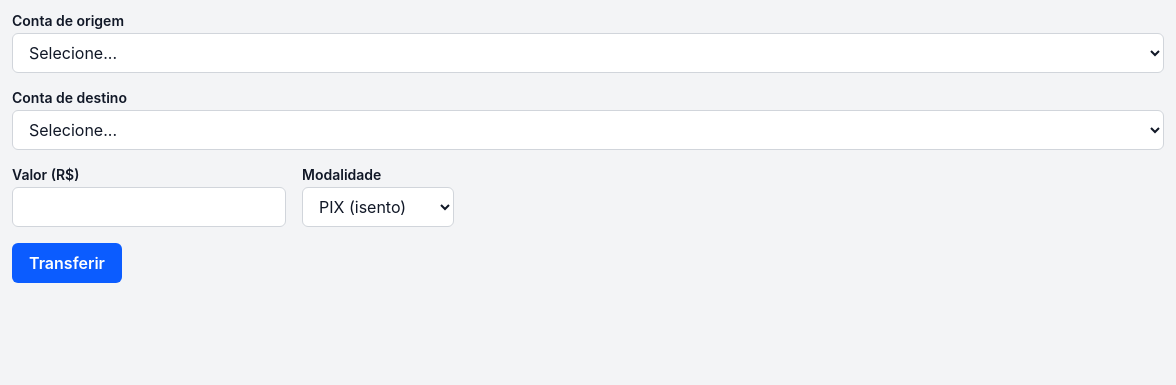
Scenario: TransferForm › envia a transferência e mostra sucesso
Select "Ana — R$ 1.000,00" in the dropdown labelled "Conta de origem" at [588, 53], box [12, 33, 1164, 73]
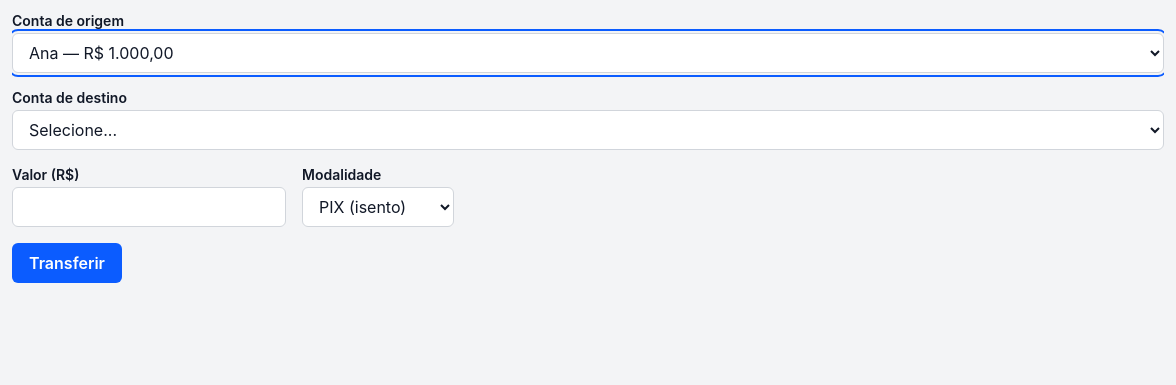
Select "Bruno — R$ 50,00" in the dropdown labelled "Conta de destino" at [588, 130], box [12, 110, 1164, 150]
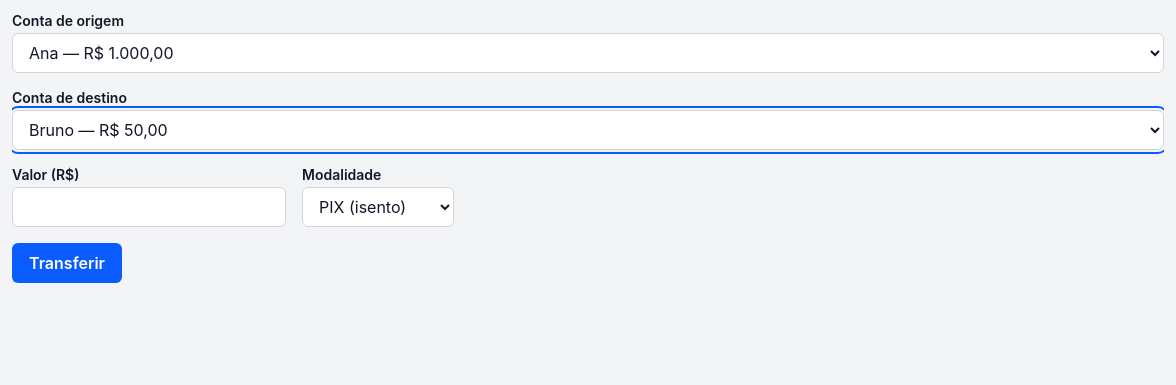
Type "100,50" into the field labelled "Valor (R$)" at [149, 207], box [12, 187, 286, 227]
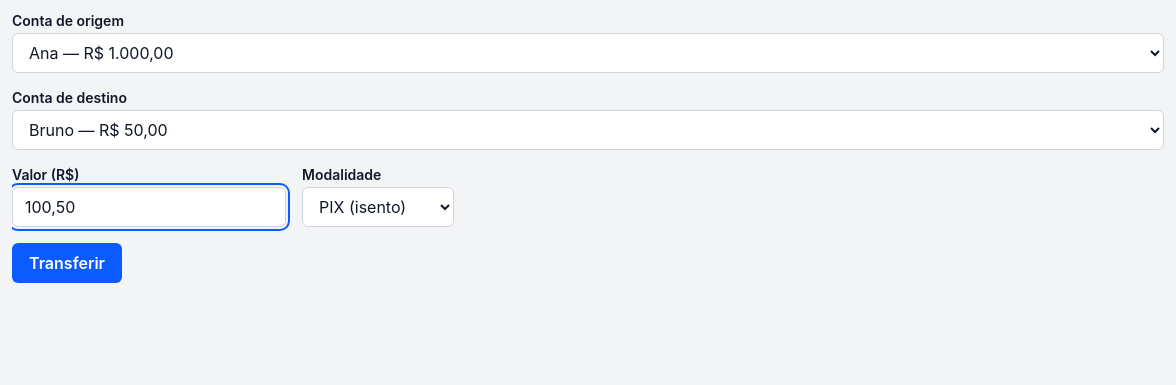
Click the button "Transferir" at [67, 263], box [12, 243, 122, 283]
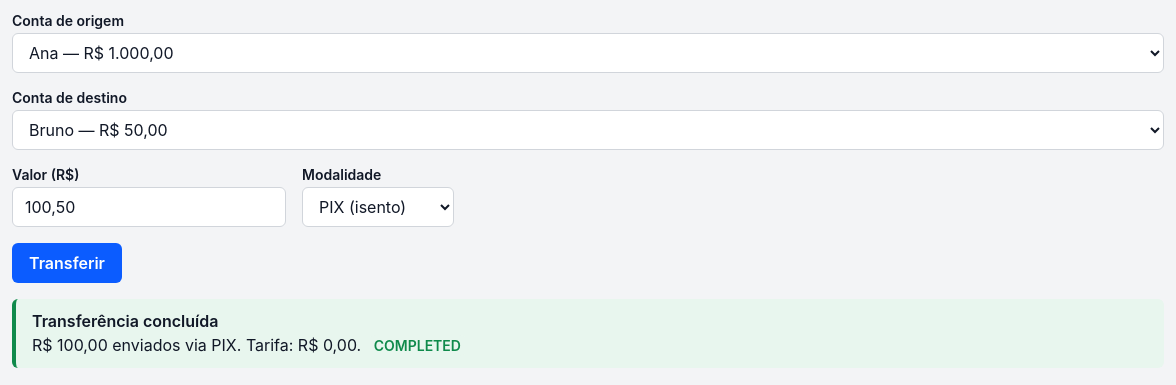
Expected: the text "Transferência concluída" is shown, [32, 311, 218, 331]
